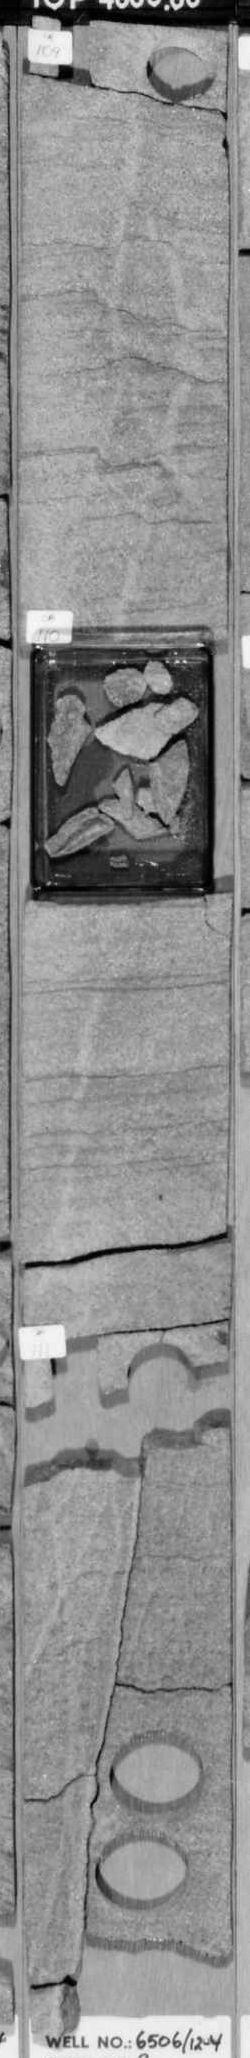hplug: (141, 31, 220, 106), (114, 1332, 197, 1393)
scal: (96, 1721, 213, 1824), (87, 1824, 201, 1918)
vplug: (38, 1326, 112, 1408), (47, 18, 109, 98)
